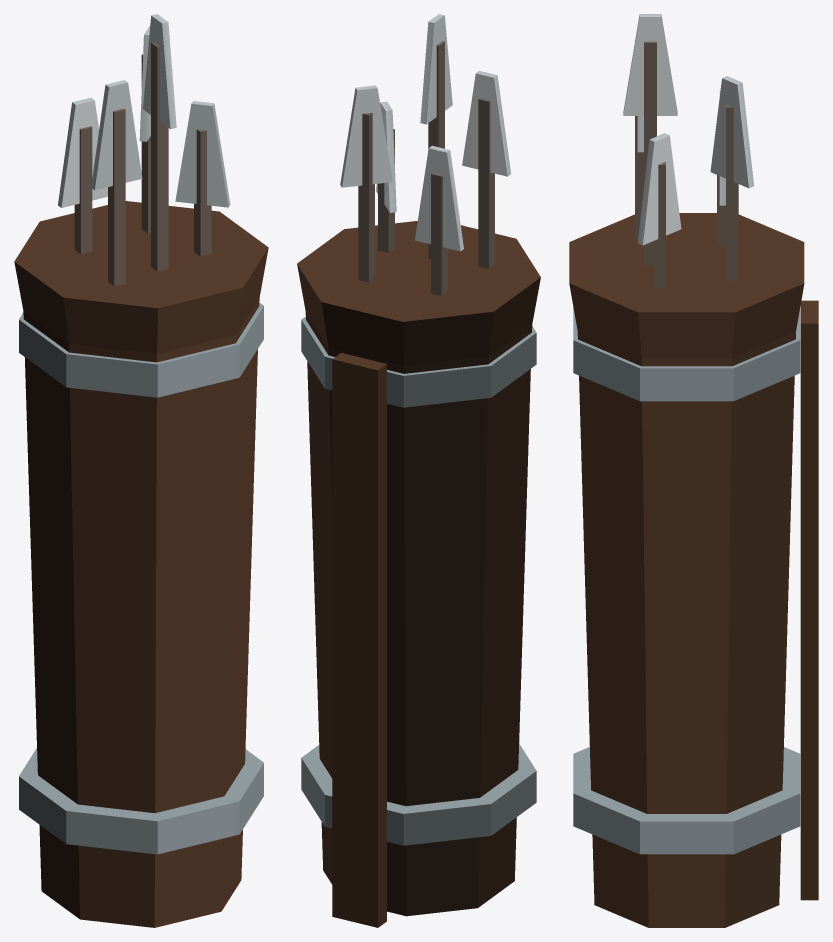
Rendered from ranger_off_1.gltf.
3 views of the same model, side by side, from view 1: azimuth 30°, elevation 25°; view 2: azimuth 150°, elevation 25°; view 3: azimuth 270°, elevation 25° (orthographic). The views are drawn at different scales.
Visible parts, largest first — view 1: ranger_off_1; view 2: ranger_off_1; view 3: ranger_off_1.
Part boxes in pixels (<box>): ranger_off_1: <box>14,14,268,927</box>; ranger_off_1: <box>297,14,540,927</box>; ranger_off_1: <box>569,14,818,927</box>.
Size of the model in its own units: 0.2587 by 1.08 by 0.2743.
1 material, 1 textured.
